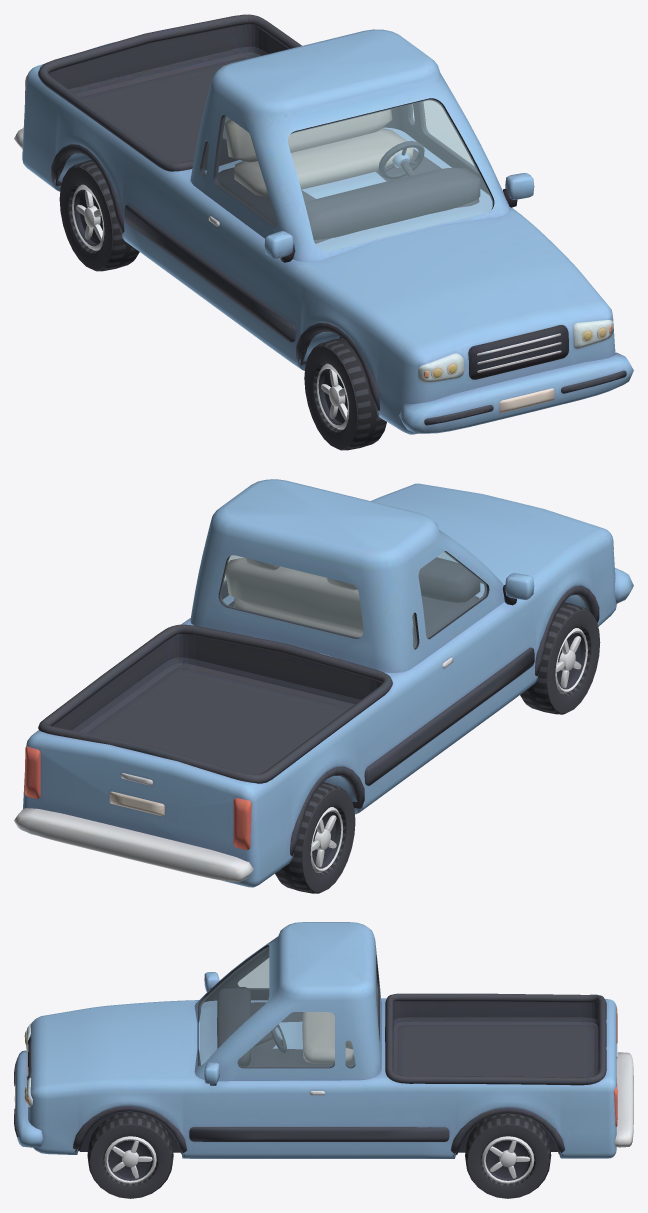
Rendered from 1990s-pickup-truck.glb.
3 views of the same model, one above another, from view 1: azimuth 30°, elevation 25°; view 2: azimuth 150°, elevation 25°; view 3: azimuth 270°, elevation 25° (orthographic). The views are drawn at different scales.
Parts seen in each view (by area): view 1: 1990s-pickup-truck_body, 1990s-pickup-truck_windows, 1990s-pickup-truck_wheel_fr, 1990s-pickup-truck_wheel_rr; view 2: 1990s-pickup-truck_body, 1990s-pickup-truck_windows, 1990s-pickup-truck_wheel_fr, 1990s-pickup-truck_wheel_rr; view 3: 1990s-pickup-truck_body, 1990s-pickup-truck_windows, 1990s-pickup-truck_wheel_fl, 1990s-pickup-truck_wheel_rl.
Part boxes in pixels (x1,y1,x2,y2): 1990s-pickup-truck_body: (14,14,633,434); 1990s-pickup-truck_windows: (202,99,492,250); 1990s-pickup-truck_wheel_fr: (304,338,386,450); 1990s-pickup-truck_wheel_rr: (59,160,139,271); 1990s-pickup-truck_body: (14,479,633,887); 1990s-pickup-truck_windows: (220,551,486,648); 1990s-pickup-truck_wheel_fr: (520,602,600,714); 1990s-pickup-truck_wheel_rr: (275,782,355,893); 1990s-pickup-truck_body: (14,922,633,1158); 1990s-pickup-truck_windows: (199,946,377,1067); 1990s-pickup-truck_wheel_fl: (87,1112,173,1198); 1990s-pickup-truck_wheel_rl: (465,1113,551,1198).
Size of the model in its own units: 2.03 by 1.9 by 5.32.
Materials: 18 (5 with a texture image).
